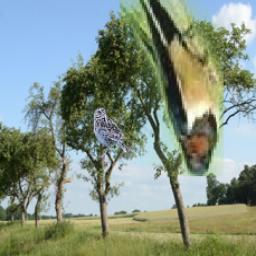Sparrow: (93, 107, 134, 164)
Swallow: (118, 0, 222, 176)
